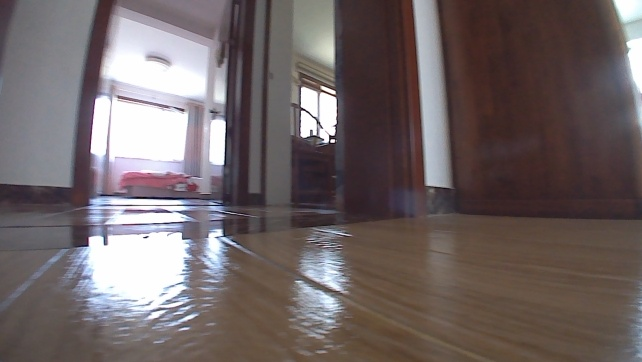bed1: (116, 168, 201, 199)
